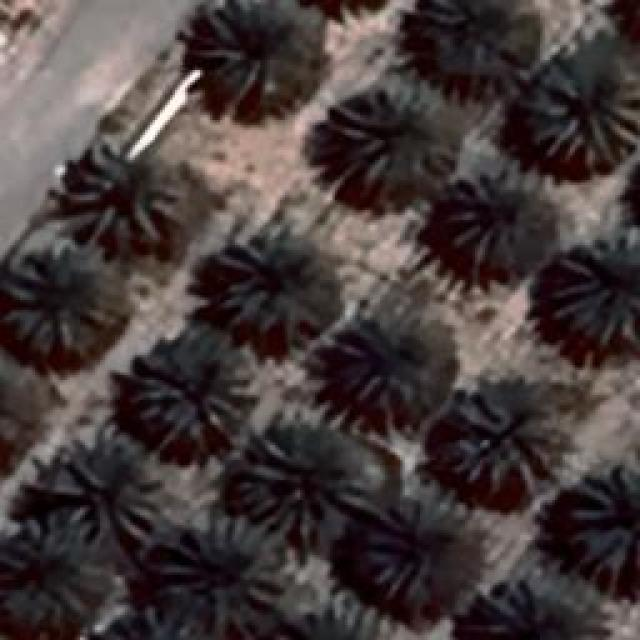PalmTree: (115, 85, 330, 623), (235, 408, 380, 542), (124, 35, 476, 85), (202, 227, 340, 345), (130, 325, 260, 450), (165, 512, 290, 638), (322, 80, 458, 190), (2, 240, 122, 358), (190, 2, 328, 100), (522, 65, 636, 173), (65, 140, 180, 242), (50, 440, 165, 542), (452, 385, 568, 485), (547, 232, 635, 350), (442, 157, 532, 265), (6, 535, 99, 635), (365, 490, 450, 595), (482, 570, 610, 638), (340, 312, 428, 406), (570, 458, 635, 580), (0, 357, 33, 468), (88, 614, 206, 640), (283, 0, 397, 22), (94, 621, 206, 640), (608, 0, 640, 43)
